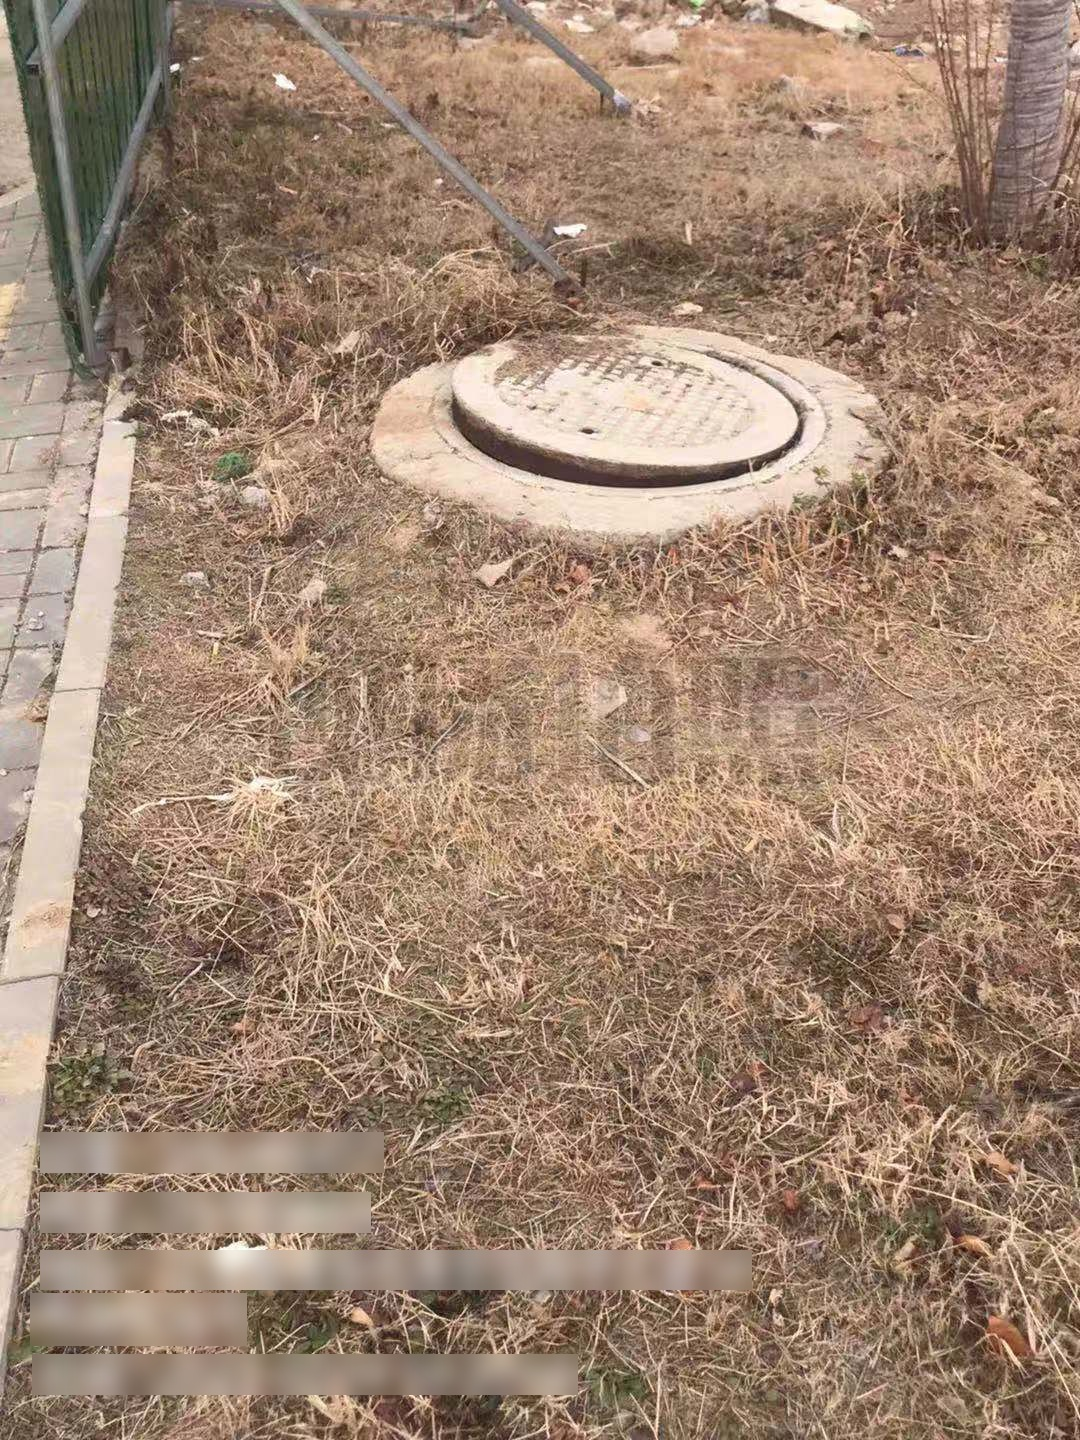uncovered: (433, 333, 830, 500)
